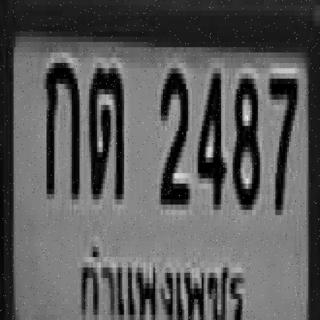A01: (44, 58, 78, 194)
A21: (87, 63, 122, 194)
N02: (159, 60, 186, 197)
N04: (196, 68, 223, 205)
N07: (268, 74, 297, 210)
N08: (231, 74, 258, 204)
P16: (72, 236, 246, 320)
